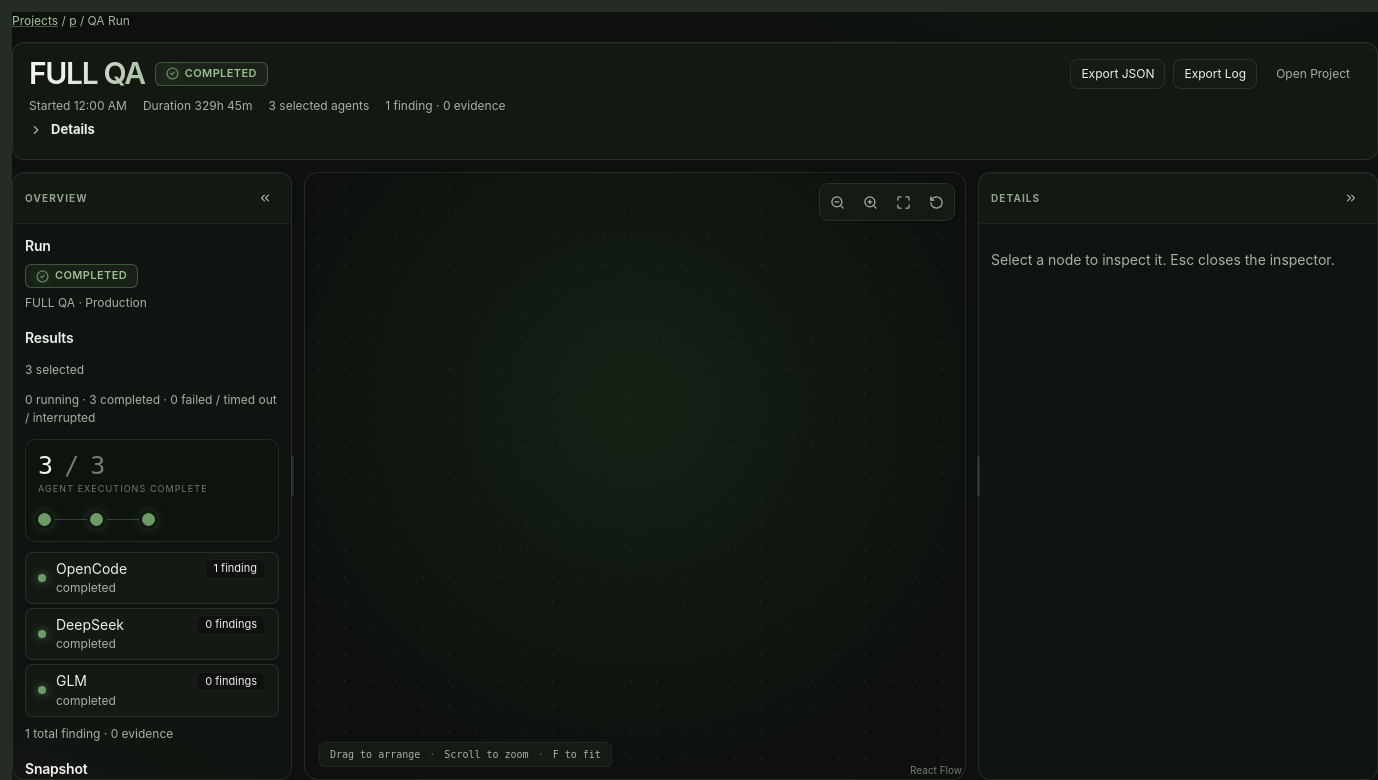
Test: truthful run workspace › export saved reports only the confirmed outcome
Click the button "Export JSON" at [1118, 74], box 1070,59 -> 1166,89
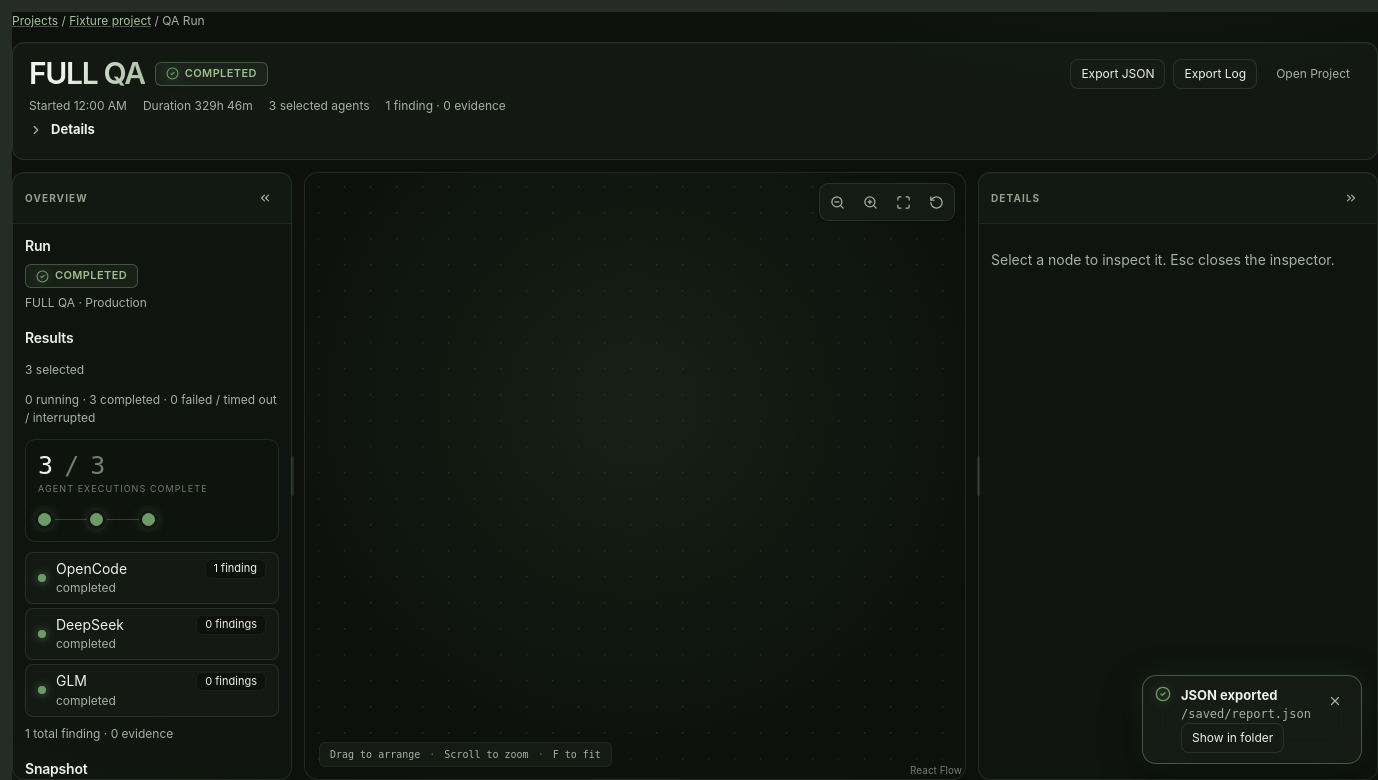
Result: the text "JSON exported" is shown at 1181,687 -> 1277,703
